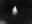person: (12, 6, 20, 17)
